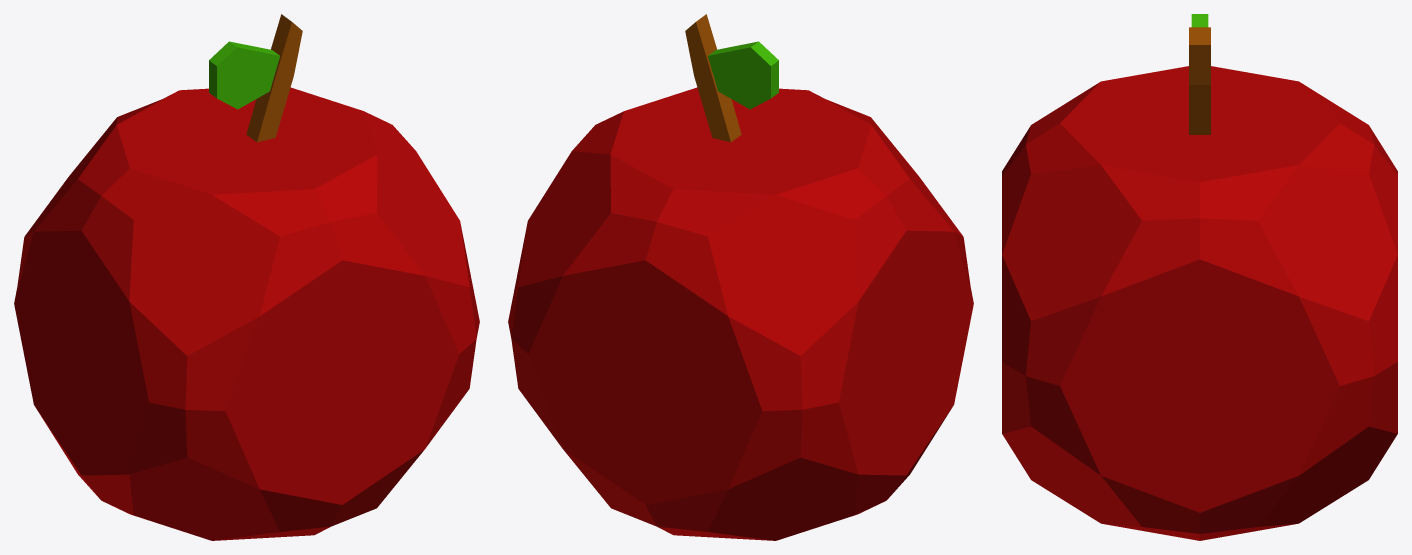
Rendered from Apple.fbx.
The picture shows the model from 3 angles, left to right: view 1: azimuth 30°, elevation 25°; view 2: azimuth 150°, elevation 25°; view 3: azimuth 270°, elevation 25°; orthographic projection. The views are drawn at different scales.
Parts seen in each view (by area): view 1: Apple; view 2: Apple; view 3: Apple.
Part boxes in pixels (x1,y1,x2,y2): Apple: [14, 14, 479, 540]; Apple: [508, 14, 973, 540]; Apple: [1002, 14, 1397, 540].
Bounding box in the file's own units: 9.05 × 11.98 × 9.05.
